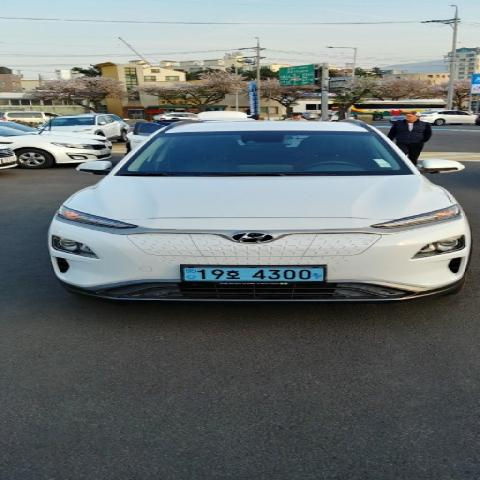LP: (174, 262, 334, 286)
